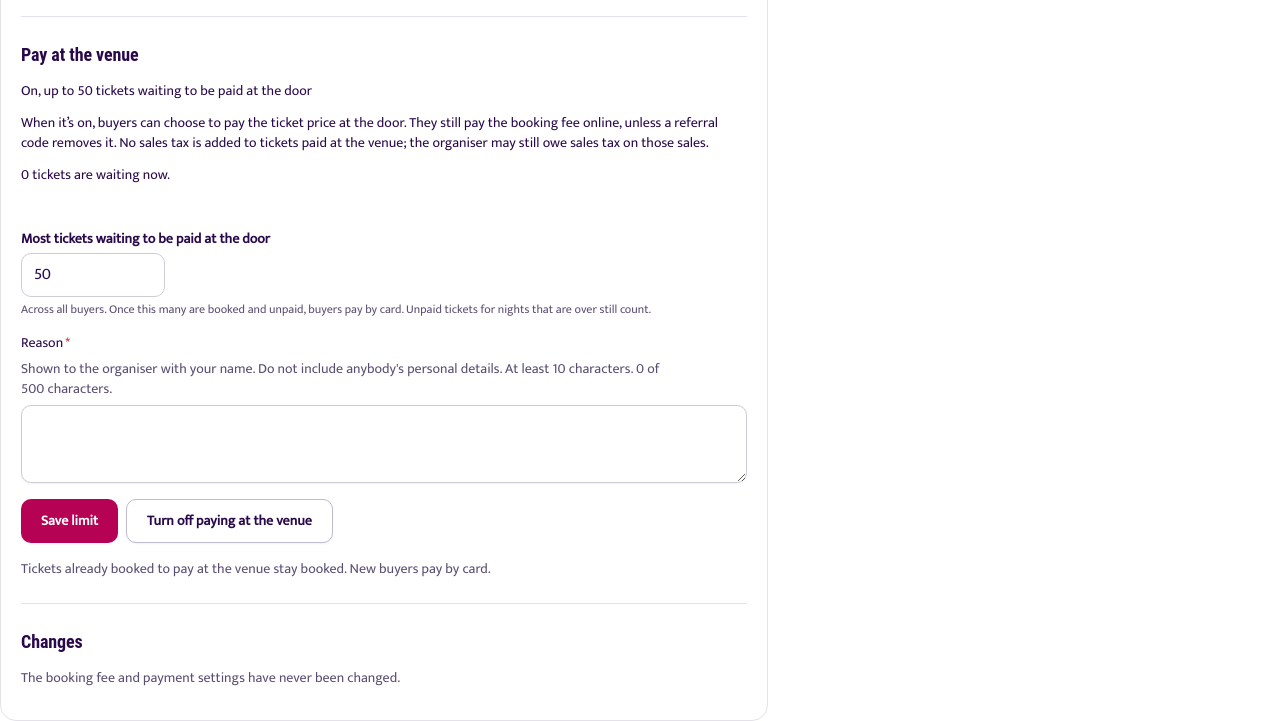
paying at the venue › turns it off once, and only off, when the prompt is confirmed by click
This screenshot has width=1280, height=721.
(page scrolled)
Step 1. Type "Agreed with the organiser for this launch." into the text box labelled "Reason*" below "0 tickets are waiting now." → (384, 444), box [21,405,747,483]
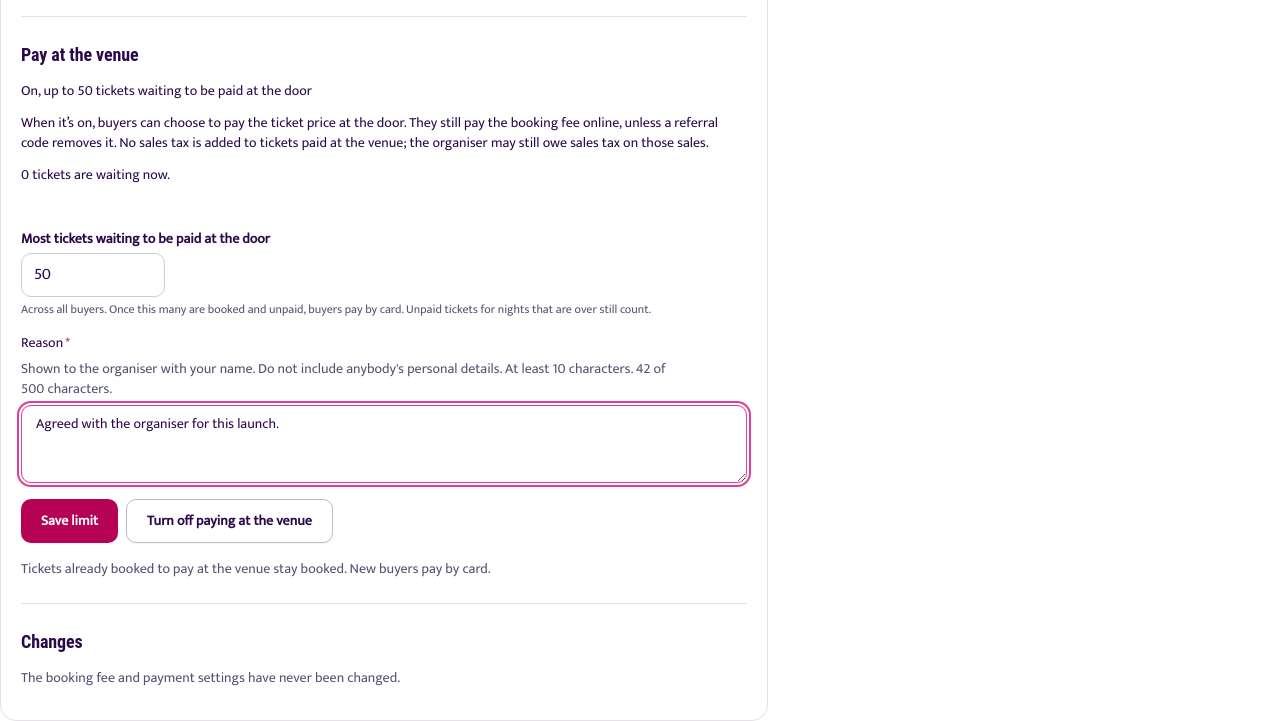
Step 2. Click the button "Turn off paying at the venue" → (229, 521), box [126,499,333,543]
(page scrolled)
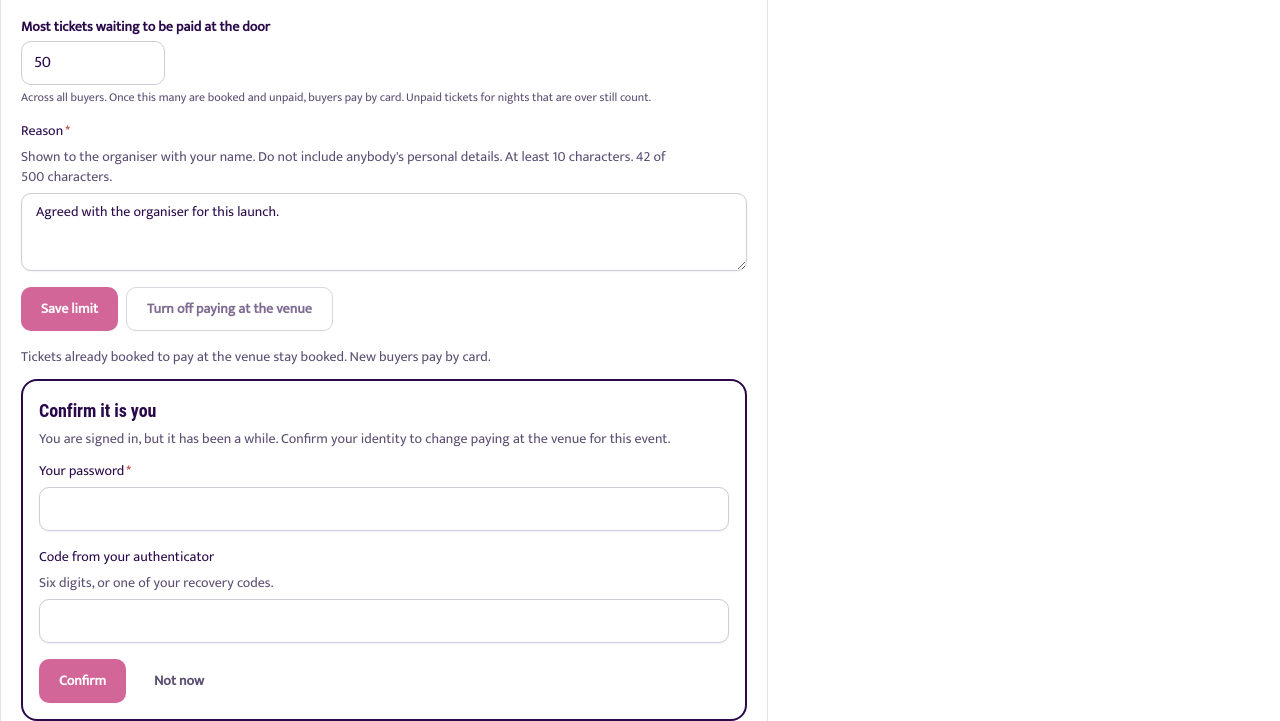
Step 3. Type "correct horse" into the password field labelled "Your password*" → (384, 509), box [39,487,729,531]
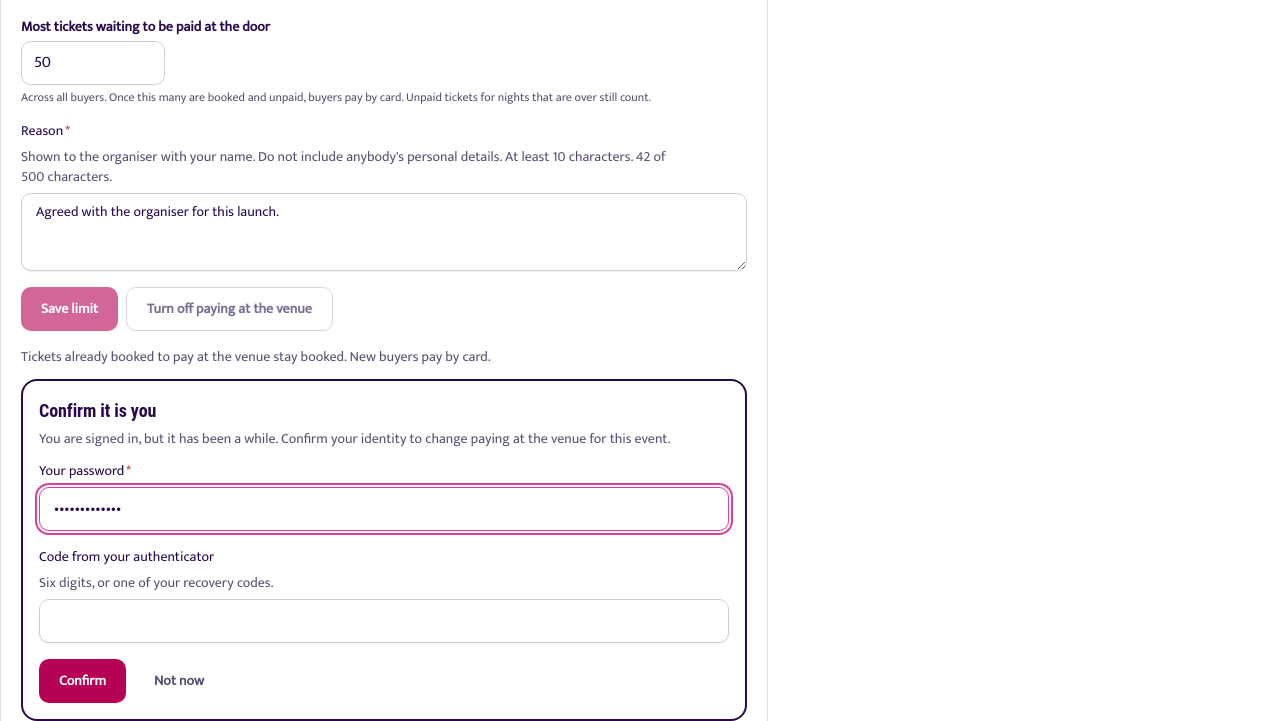
Step 4. Click the button "Confirm" → (82, 681), box [39,659,126,703]
(page scrolled)
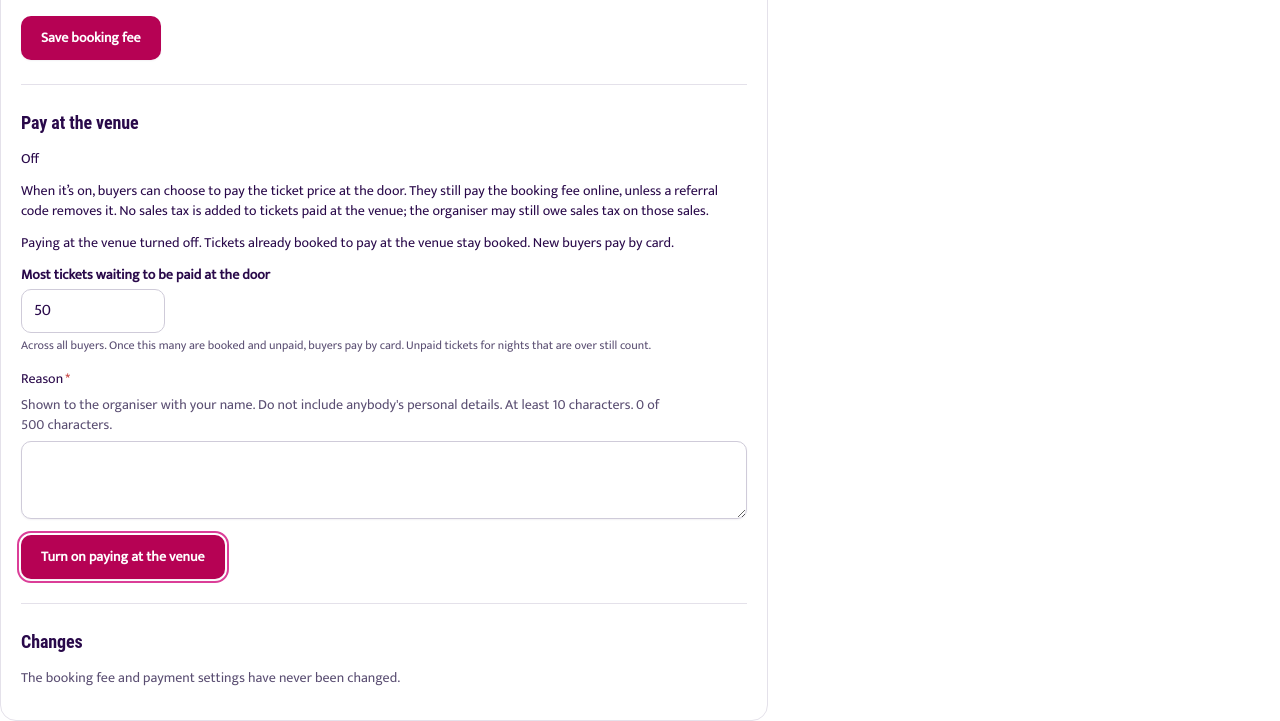
Expected: the text "Paying at the venue turned off." is shown, [21,231,674,254]
